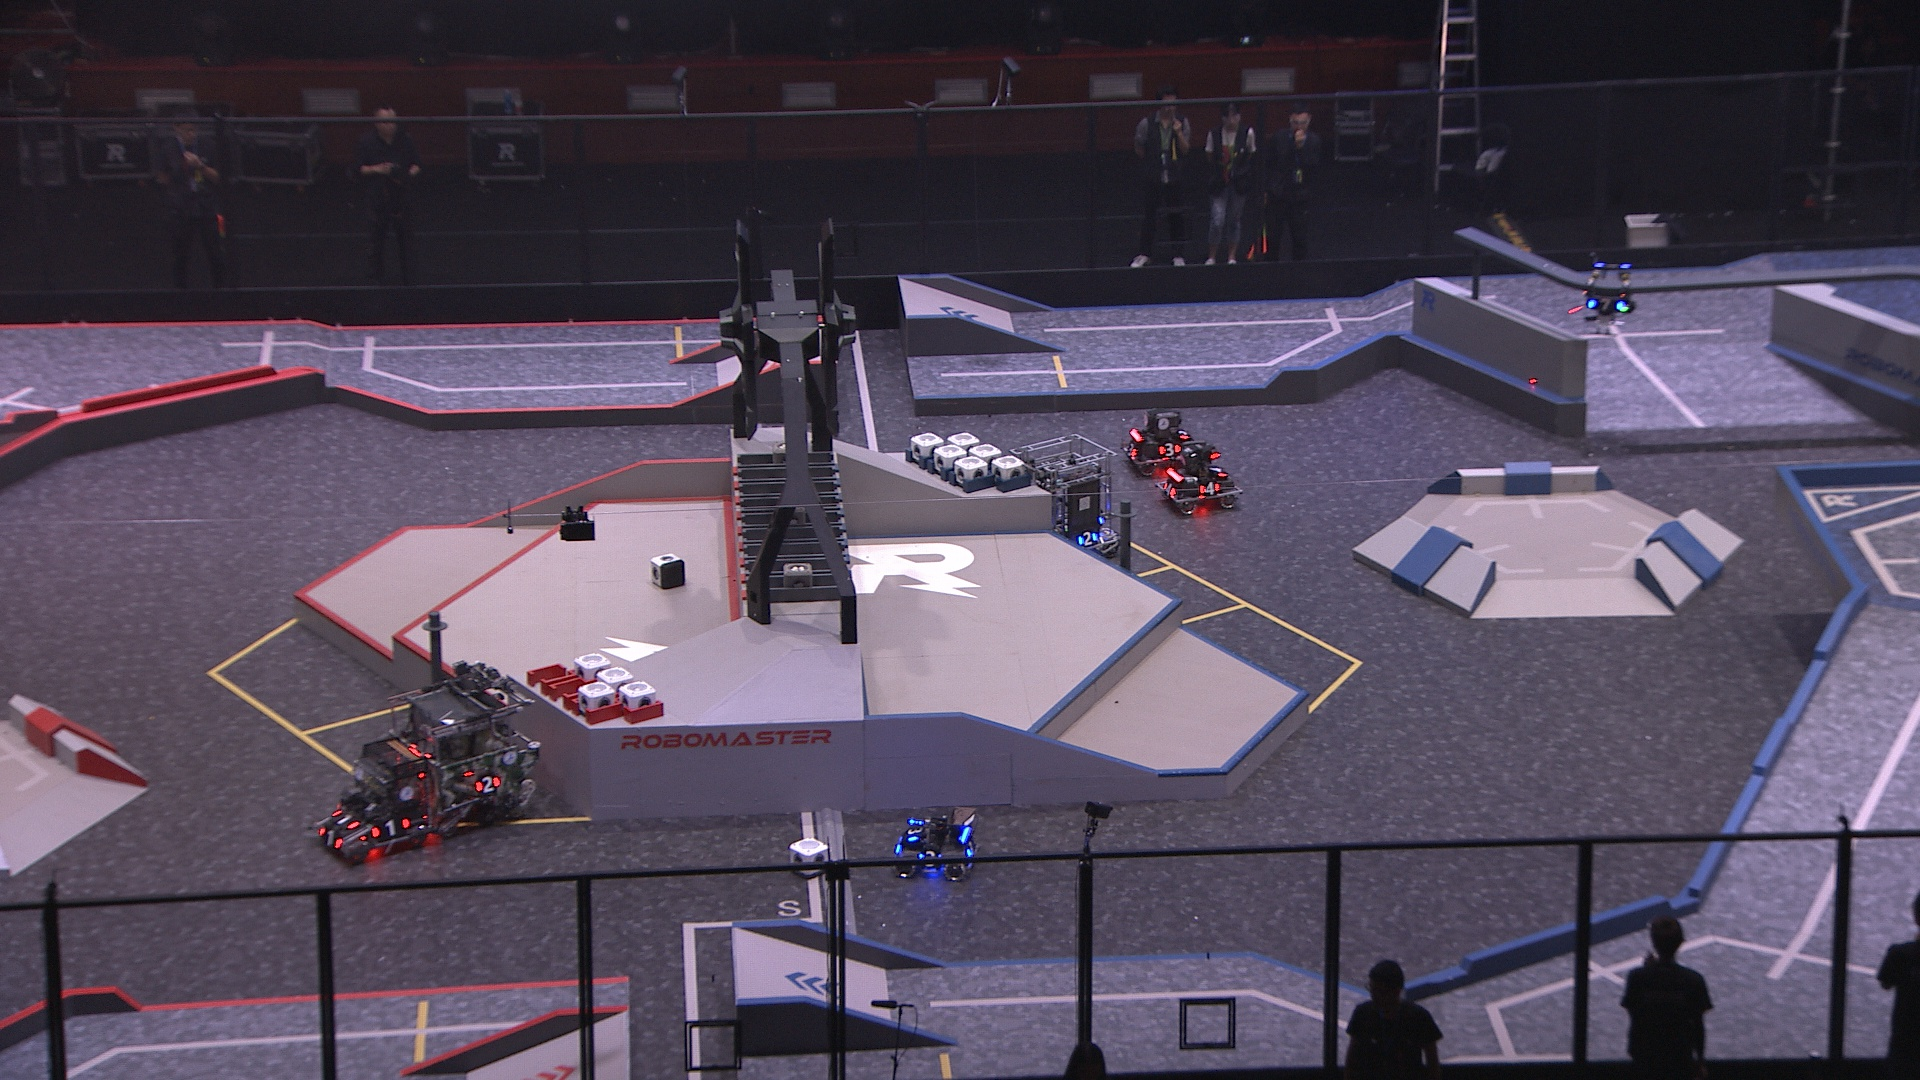armor: (371, 816, 413, 845), (315, 822, 343, 853), (328, 808, 363, 833), (1586, 294, 1626, 315), (469, 771, 500, 796), (1195, 477, 1225, 498), (1073, 527, 1101, 550), (915, 847, 942, 865), (1154, 440, 1182, 458), (1159, 479, 1182, 500), (903, 818, 920, 841), (1211, 458, 1228, 480), (960, 839, 977, 861), (1124, 439, 1139, 458)
car: (386, 669, 542, 840), (313, 731, 439, 864), (1007, 433, 1126, 562), (1150, 438, 1242, 520), (1120, 404, 1215, 479), (893, 806, 978, 884)
watcher: (1576, 248, 1638, 335)
